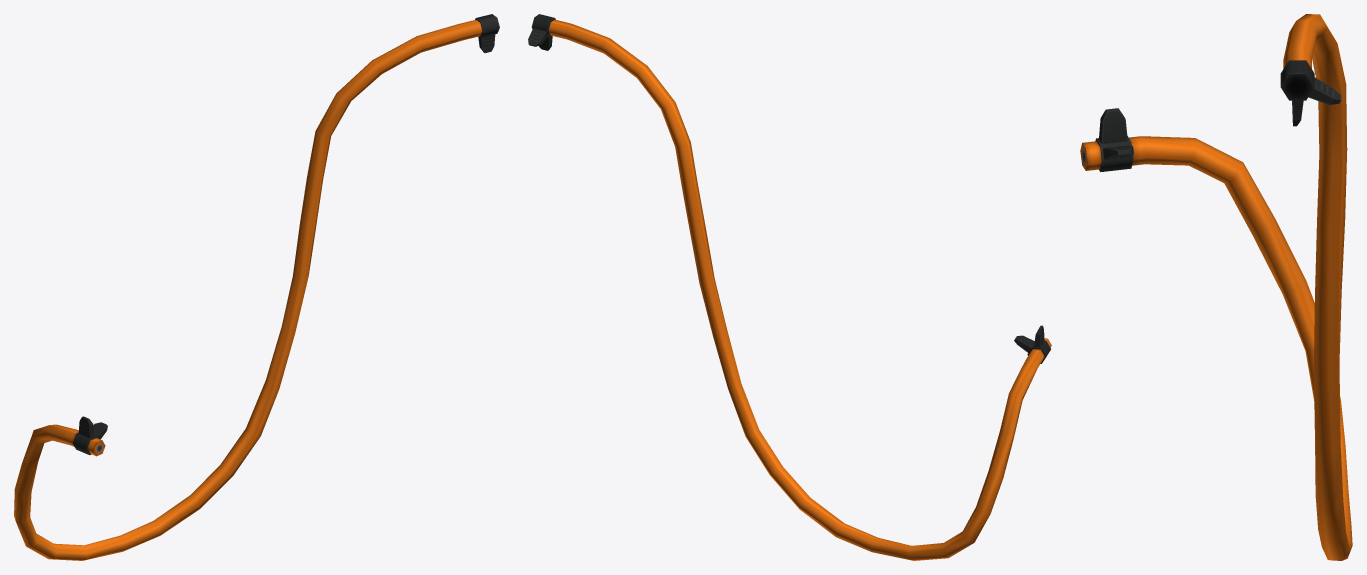
The model's file is jsf_GasRange_01d.fbx.
3 renders of one model, left to right at view 1: azimuth 30°, elevation 25°; view 2: azimuth 150°, elevation 25°; view 3: azimuth 270°, elevation 25°, orthographic. The views are drawn at different scales.
Parts seen in each view (by area): view 1: GasHose; view 2: GasHose; view 3: GasHose.
Part boxes in pixels (x1,y1,x2,y2): GasHose: (14, 14, 499, 560); GasHose: (528, 14, 1051, 560); GasHose: (1080, 14, 1352, 560).
Bounding box in the file's own units: 57.98 × 52.4 × 16.95.
